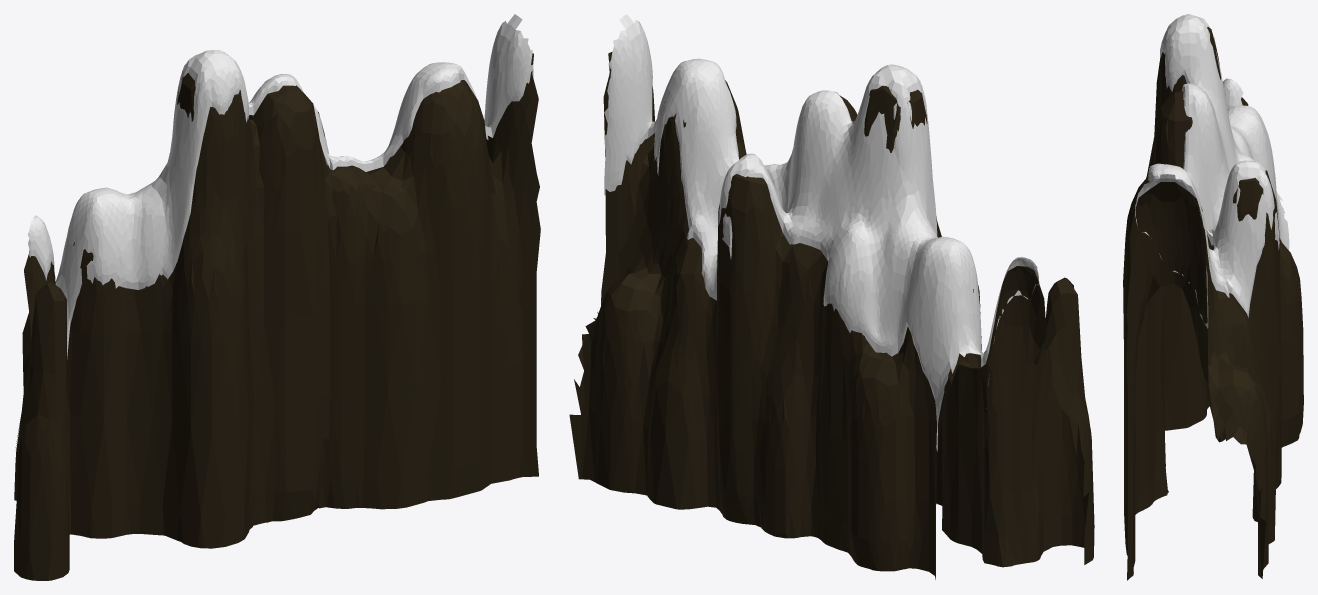
File: Mtn_Wall_W3.fbx
3 views of the same model, side by side, from view 1: azimuth 30°, elevation 25°; view 2: azimuth 150°, elevation 25°; view 3: azimuth 270°, elevation 25° (orthographic). The views are drawn at different scales.
Parts seen in each view (by area): view 1: Mtn_Wall_W3; view 2: Mtn_Wall_W3; view 3: Mtn_Wall_W3.
Part boxes in pixels (left/top/right/bottom): Mtn_Wall_W3: left=14, top=14, right=540, bottom=580; Mtn_Wall_W3: left=569, top=14, right=1094, bottom=579; Mtn_Wall_W3: left=1123, top=14, right=1303, bottom=580.
Size of the model in its own units: 19891 by 18038 by 6829.
